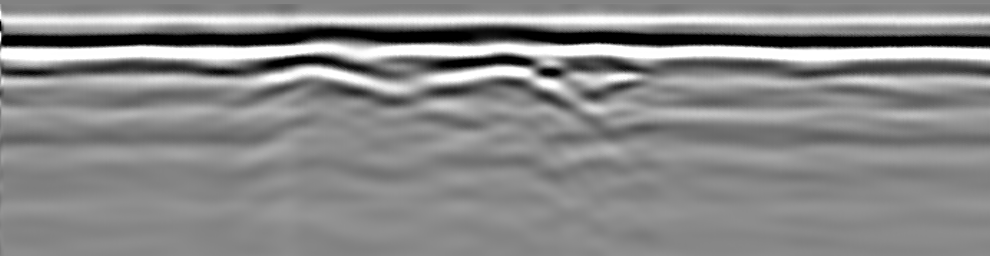pipe: (433, 31, 549, 77), (264, 26, 373, 73)
